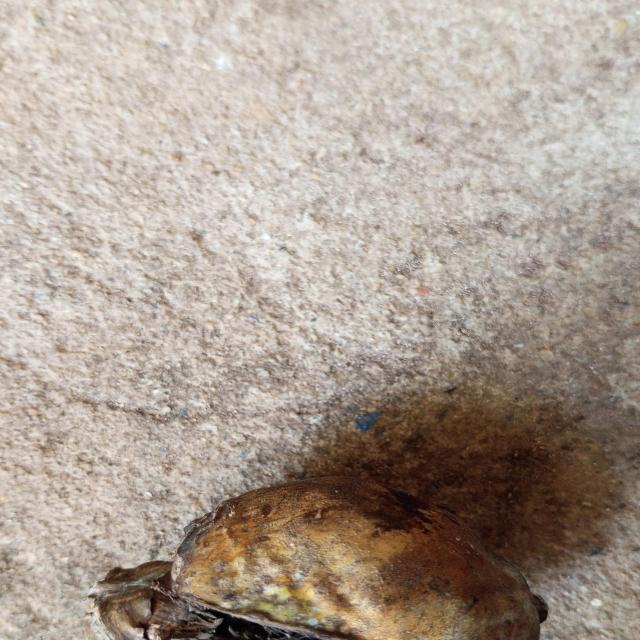damaged: (97, 451, 591, 640)
